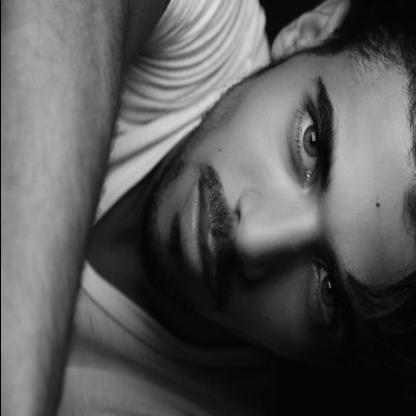Eye: (294, 98, 320, 184), (312, 258, 340, 328)
Mouth: (180, 176, 212, 296)
Nose: (231, 192, 314, 282)
